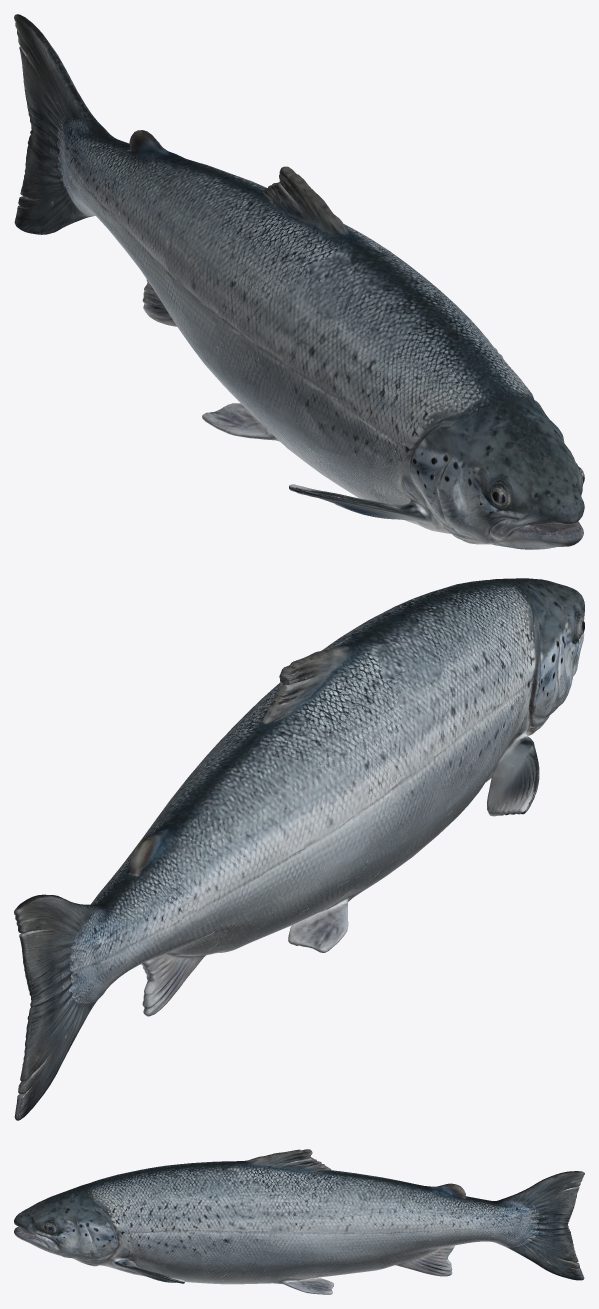
File: losos.glb
3 views of the same model, one above another, from view 1: azimuth 30°, elevation 25°; view 2: azimuth 150°, elevation 25°; view 3: azimuth 270°, elevation 25° (orthographic). The views are drawn at different scales.
Visible parts, largest first — view 1: Mesh_0; view 2: Mesh_0; view 3: Mesh_0.
Part boxes in pixels (x1=…): Mesh_0: x1=14, y1=14, x2=584, y2=549; Mesh_0: x1=14, y1=578, x2=584, y2=1120; Mesh_0: x1=14, y1=1149, x2=584, y2=1294.
Bounding box in the file's own units: 0.4649 × 0.4821 × 1.9.
Materials: 1 (1 with a texture image).
